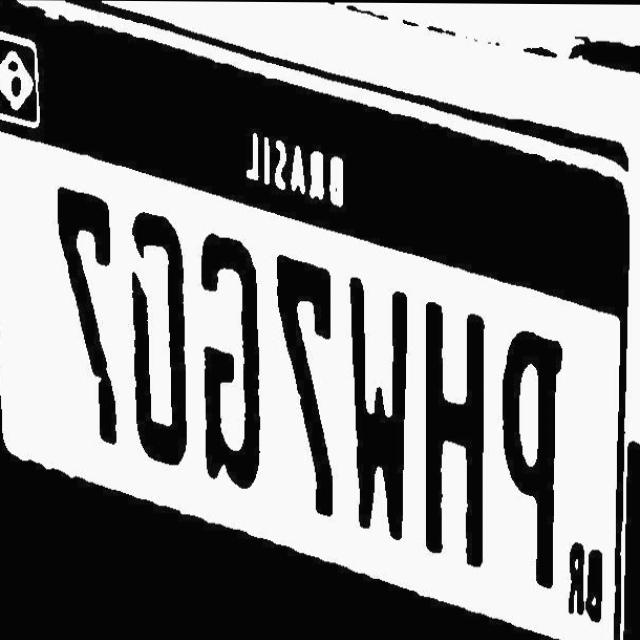0: (127, 207, 193, 470)
7: (52, 177, 118, 447), (268, 250, 334, 518)
g: (198, 218, 267, 497)
h: (421, 298, 493, 572)
p: (498, 316, 568, 593)
w: (342, 269, 419, 544)
